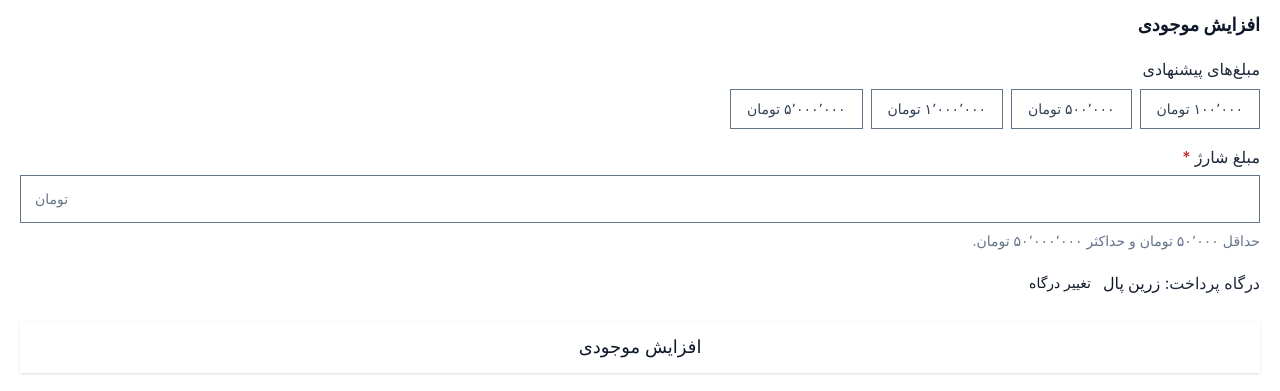
Test: the box closes › live gateway_not_configured: no navigation; the support line
The image size is (1280, 391).
Type "100000" into the field labelled "مبلغ شارژ *".
click(664, 199); type("100000")  # box [68,176,1259,222]
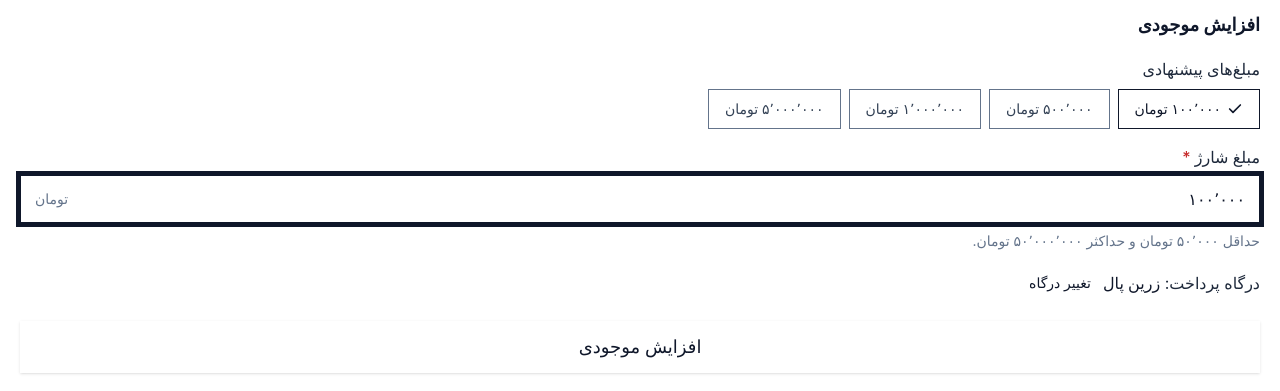
Click the button "افزایش موجودی".
click(640, 347)  # box [20,321,1260,373]
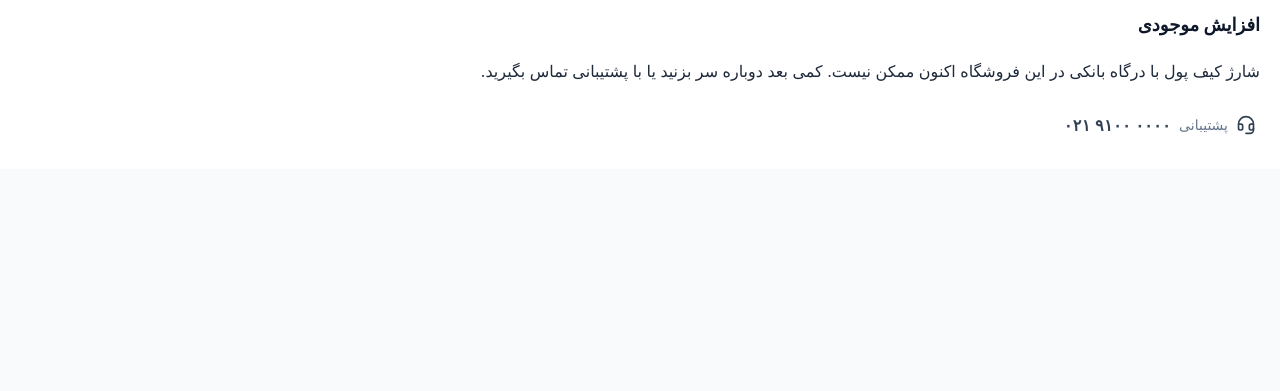
Check: the text "شارژ کیف پول با درگاه بانکی در این فروشگاه" is shown, box [481,61,1260,81]
